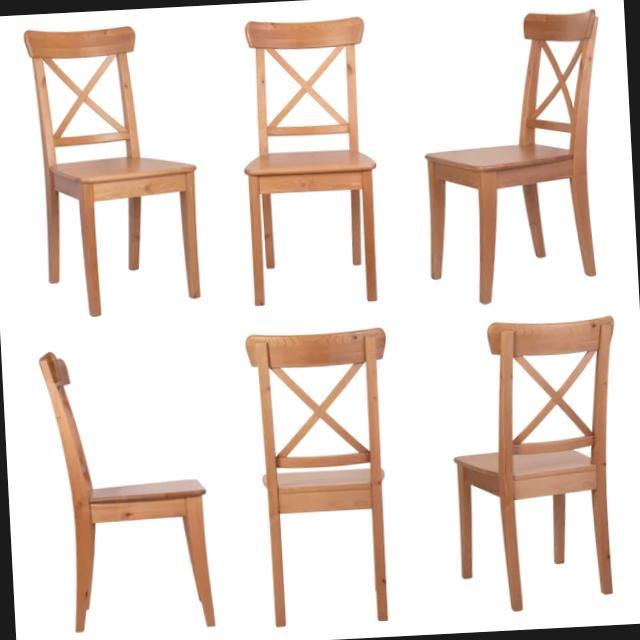obstacle: (432, 287, 640, 634), (211, 297, 419, 640), (404, 0, 625, 321), (25, 306, 222, 640), (12, 7, 215, 324), (213, 2, 406, 307)
